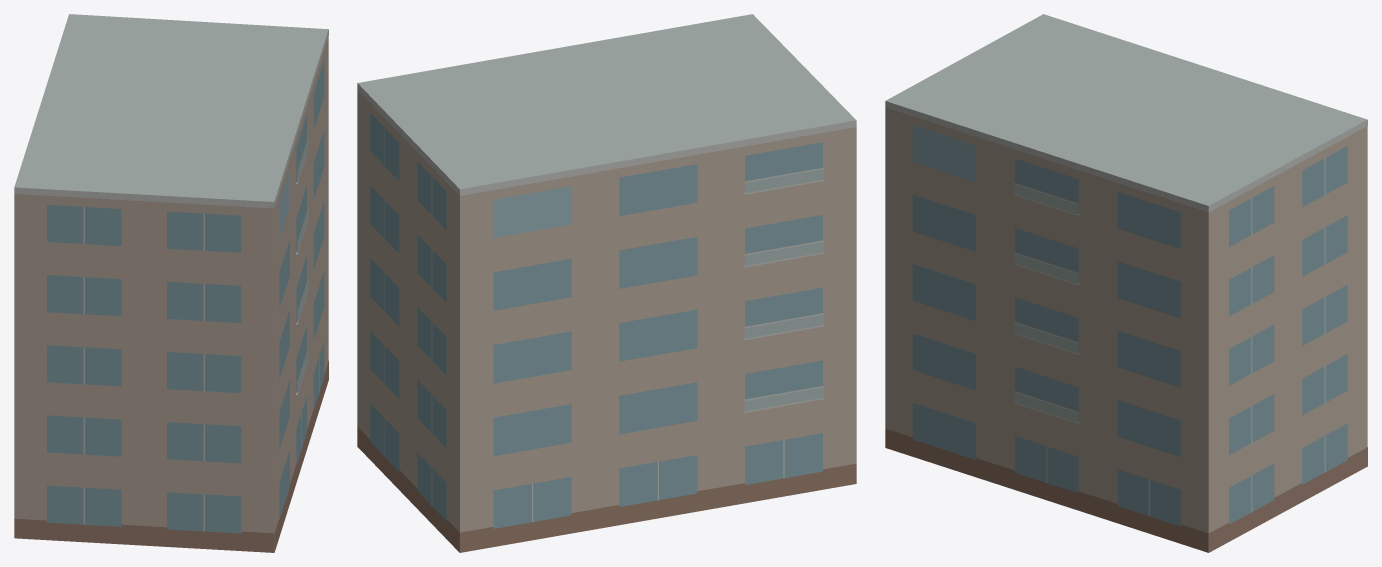
The model's file is survey-upis-32890395.glb.
3 views of the same model, side by side, from view 1: azimuth 30°, elevation 25°; view 2: azimuth 150°, elevation 25°; view 3: azimuth 270°, elevation 25° (orthographic). The views are drawn at different scales.
Visible parts, largest first — view 1: survey-upis-32890395.tmp; view 2: survey-upis-32890395.tmp; view 3: survey-upis-32890395.tmp.
Boxes of the visible parts, left/top/right/bottom form: survey-upis-32890395.tmp: left=14, top=14, right=328, bottom=552; survey-upis-32890395.tmp: left=357, top=14, right=856, bottom=552; survey-upis-32890395.tmp: left=885, top=14, right=1367, bottom=552.
Size of the model in its own units: 15.76 by 13.27 by 16.74.
